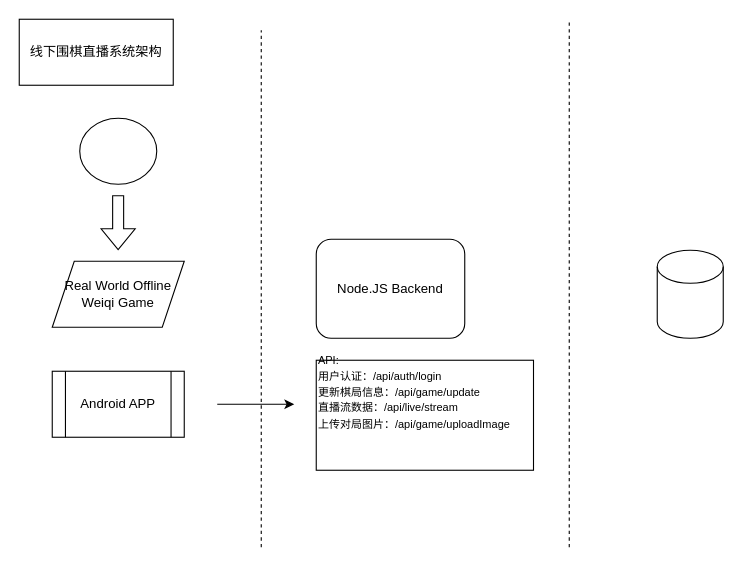
Image size: 743x568. Some labels were removed from this diagram. The shapes that lost their labels are listed below. From the top down, each one's centre as x and y in pixels, then its label:
[118,150]: Cell phone camera
[689,293]: Main DB MongoDB
